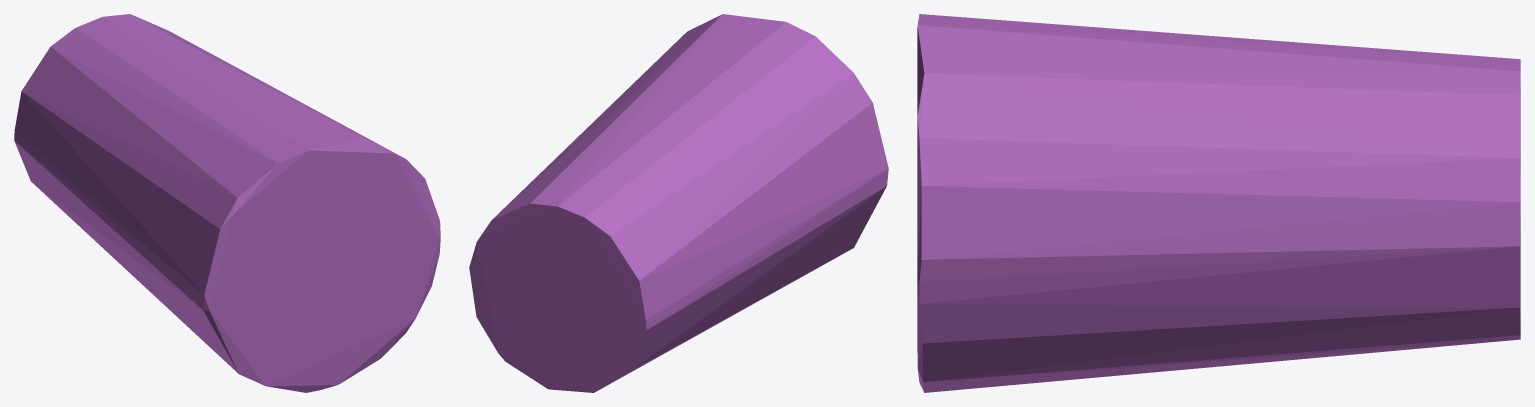
Rendered from food_beverage_coffeeCup_n01.glb.
3 views of the same model, side by side, from view 1: azimuth 30°, elevation 25°; view 2: azimuth 150°, elevation 25°; view 3: azimuth 270°, elevation 25° (orthographic). The views are drawn at different scales.
Parts seen in each view (by area): view 1: geometry_0; view 2: geometry_0; view 3: geometry_0.
Part boxes in pixels (x1=…): geometry_0: x1=14, y1=14, x2=440, y2=392; geometry_0: x1=469, y1=14, x2=888, y2=392; geometry_0: x1=917, y1=14, x2=1520, y2=392.
Size of the model in its own units: 0.3014 by 0.2986 by 0.48.
